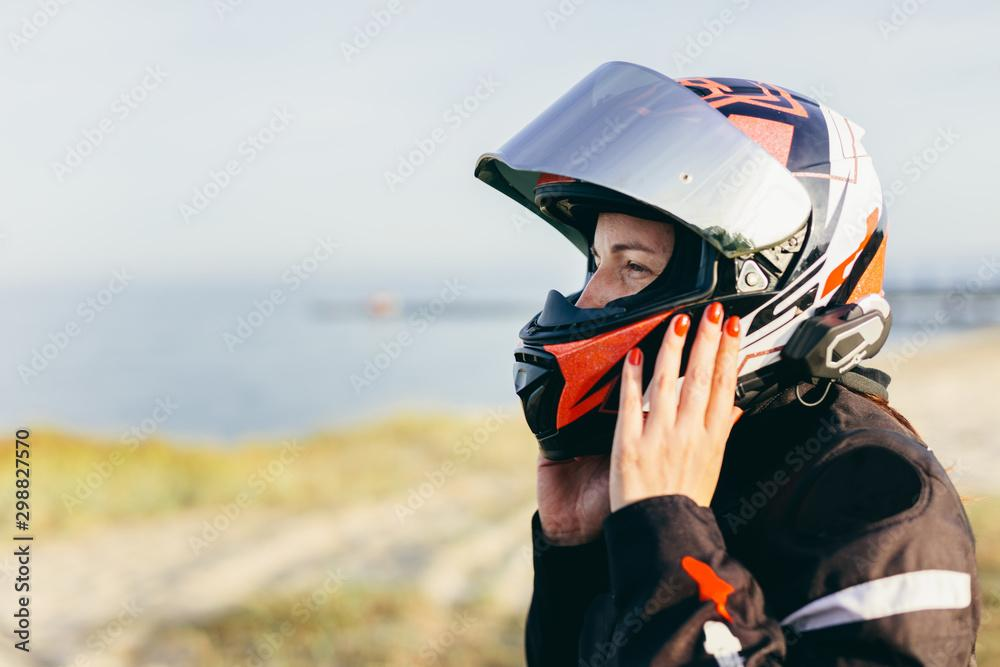helmet: (472, 57, 895, 464)
